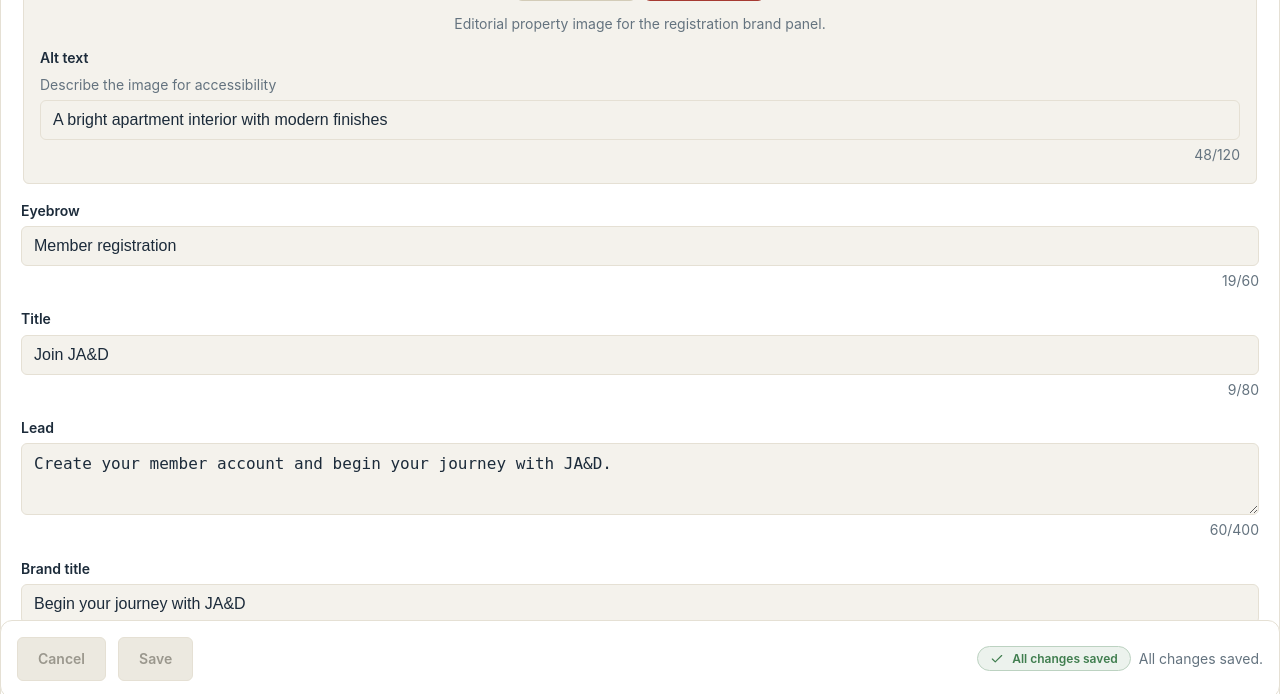
Test: CmsRegisterPage — Register CMS module › validation: empty required title shows error and disables Save
(page scrolled)
Clear the field showing "Join JA&D": (640, 355) left=21, top=335, right=1259, bottom=375
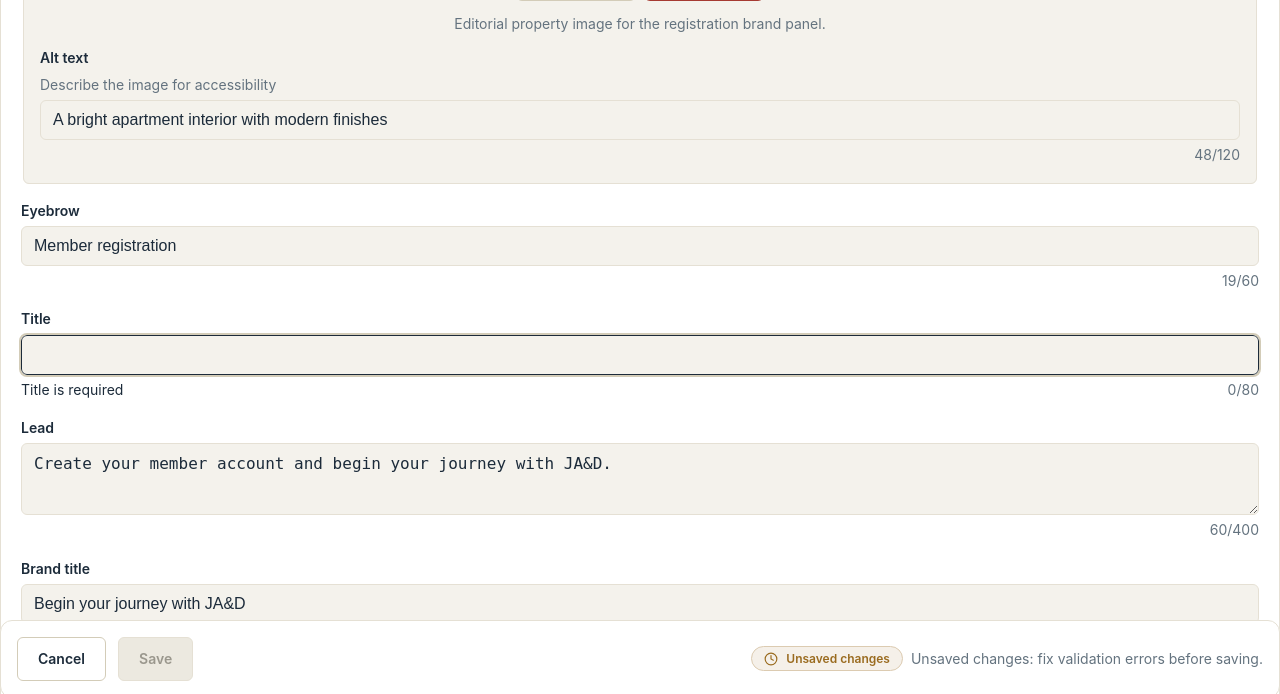
Check: the button "Save" is disabled, box left=118, top=637, right=193, bottom=681
Check: the text "Title is required" is shown, box left=21, top=379, right=123, bottom=401
